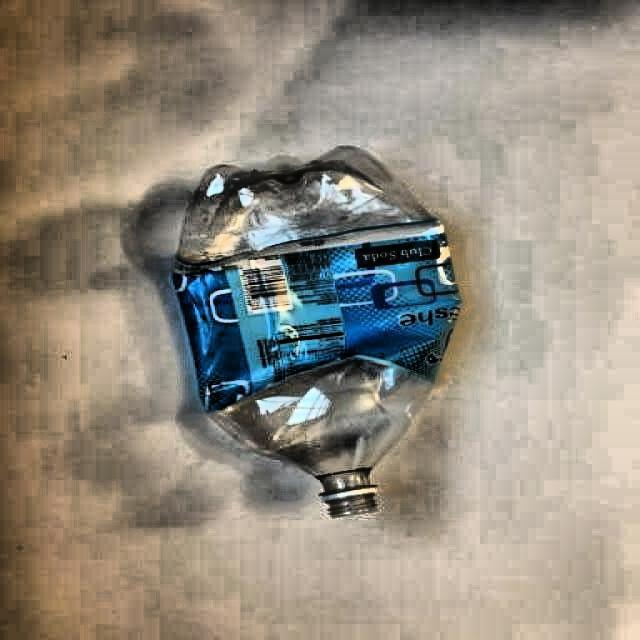plastic: (172, 148, 460, 514)
